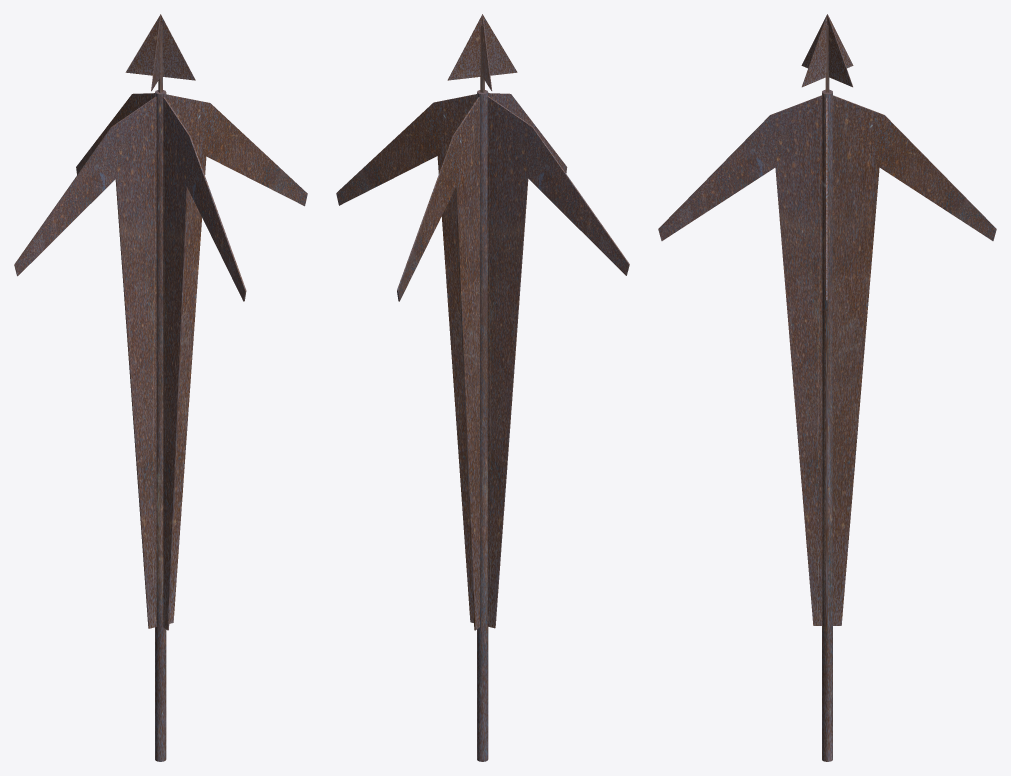
The model's file is designator4.obj.
3 views of the same model, side by side, from view 1: azimuth 30°, elevation 25°; view 2: azimuth 150°, elevation 25°; view 3: azimuth 270°, elevation 25° (orthographic).
Visible parts, largest first — view 1: telo1, telo2, tyc, hlava3; view 2: telo1, telo2, tyc, hlava2; view 3: telo2, tyc, hlava2, hlava3, telo1.
Boxes of the visible parts, x1,y1,x2,y2 form: telo1: (14,94,307,628); telo2: (76,93,246,630); tyc: (155,90,166,761); hlava3: (125,14,195,80); telo1: (336,94,629,628); telo2: (397,93,567,630); tyc: (477,90,488,761); hlava2: (447,14,517,80); telo2: (658,95,996,625); tyc: (822,89,832,761); hlava2: (801,14,852,87); hlava3: (802,14,853,87); telo1: (826,97,827,631).
Size of the model in its own units: 1.25 by 3.03 by 1.25.
